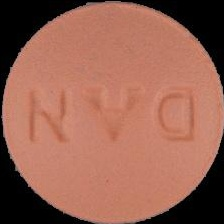55154-2653: (0, 0, 224, 224)
